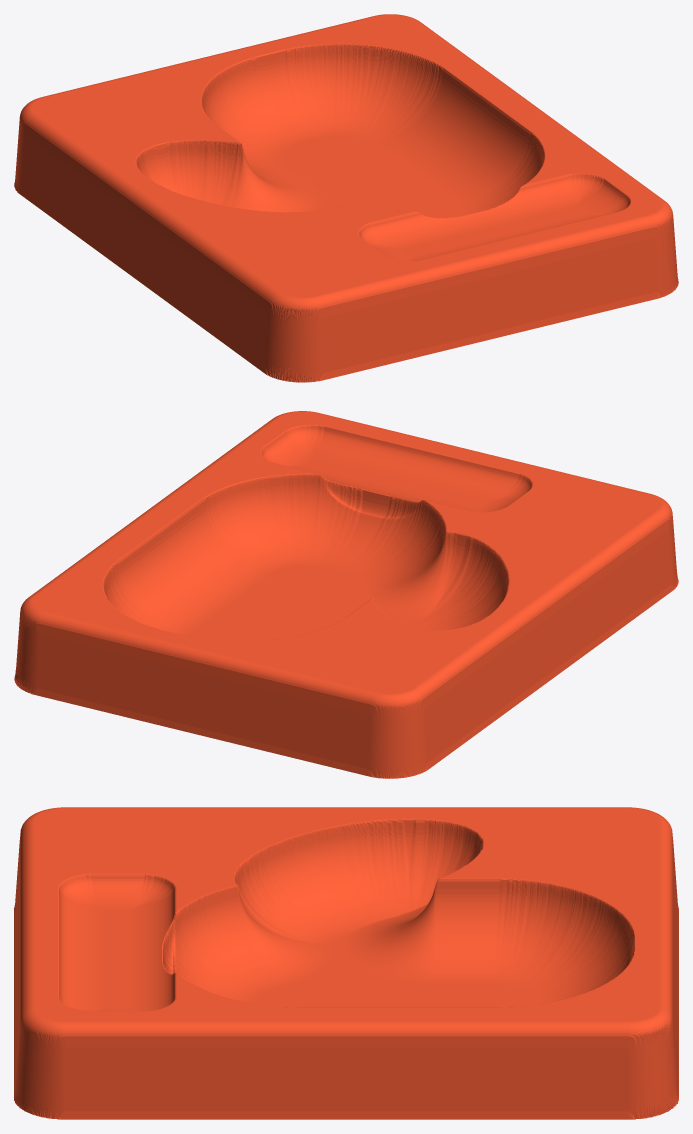
File: mold.glb
3 views of the same model, one above another, from view 1: azimuth 30°, elevation 25°; view 2: azimuth 150°, elevation 25°; view 3: azimuth 270°, elevation 25° (orthographic). The views are drawn at different scales.
Parts seen in each view (by area): view 1: geometry_0; view 2: geometry_0; view 3: geometry_0.
Boxes of the visible parts, <box> form: geometry_0: <box>14,14,678,382</box>; geometry_0: <box>14,411,678,778</box>; geometry_0: <box>14,807,678,1119</box>.
Size of the model in its own units: 0.0964 by 0.0175 by 0.1178.
